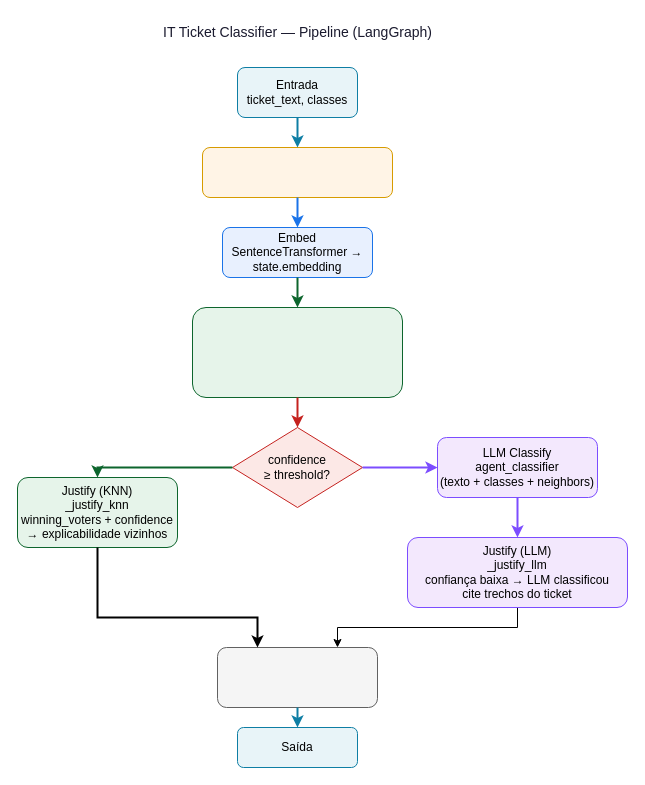
Image size: 645x785. Some labels were removed from this diagram. The centre of each missing label's shape, as x and y in pixels:
"KNN Classify search_by_vector(embedding) → classe, confidence (voto maioria)" belongs at (297,352).
"Log & Return classe, justificativa, confidence, inference_time" belongs at (297,677).
"Preprocess _clean_text (regex, 10k chars)" belongs at (297,172).
